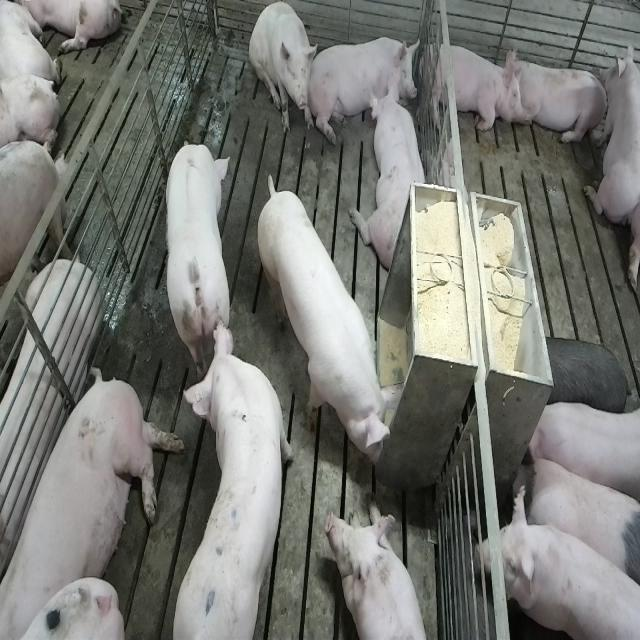Feeding: (261, 164, 410, 478)
Lateral_lying: (5, 363, 186, 636), (0, 260, 102, 575)
Sitting: (249, 3, 317, 137)
Standing: (175, 315, 296, 635), (481, 489, 638, 638), (512, 446, 637, 590), (159, 136, 230, 378), (0, 141, 71, 344), (525, 396, 640, 511), (534, 333, 634, 420)
Sternal_lying: (330, 503, 434, 640), (356, 84, 429, 274), (313, 27, 419, 137), (585, 37, 637, 226), (425, 36, 523, 136), (510, 52, 608, 148)
